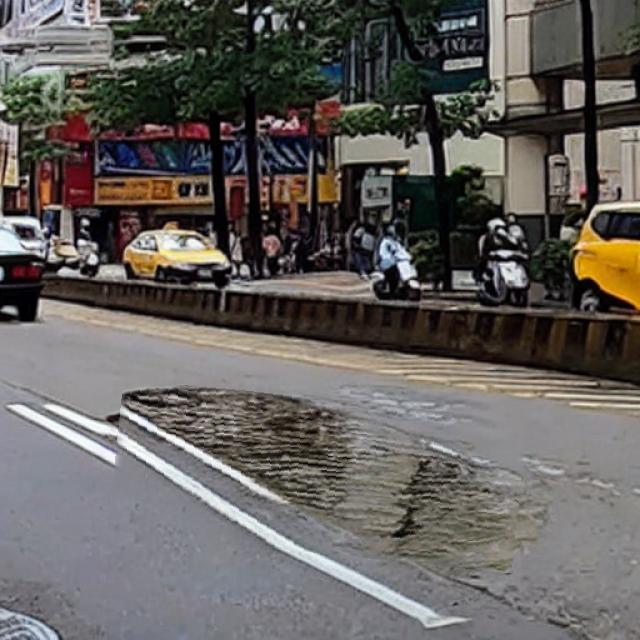puddle: (112, 390, 524, 564)
